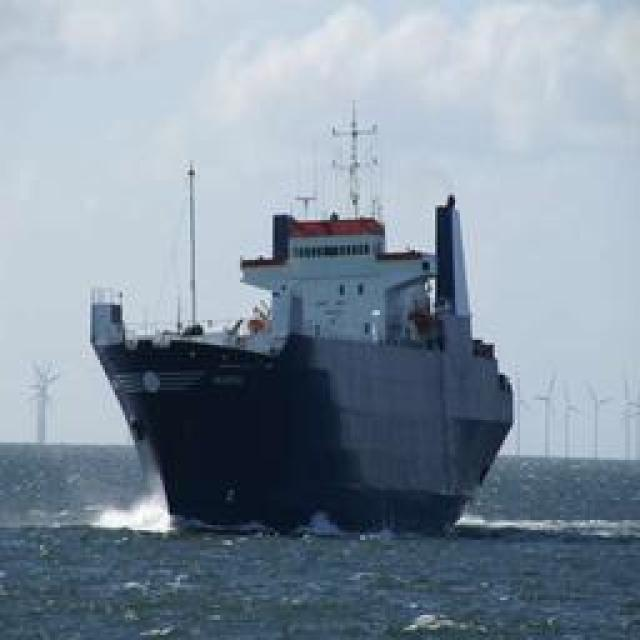ship2: (89, 89, 514, 539)
